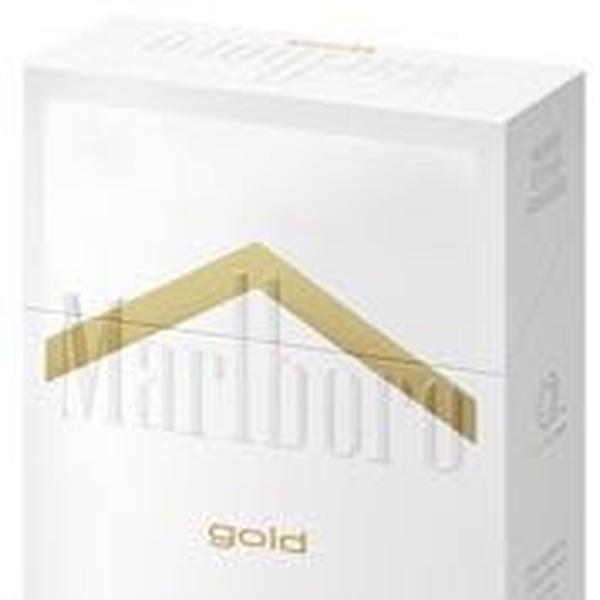marlboro_gold: (23, 119, 497, 600)
